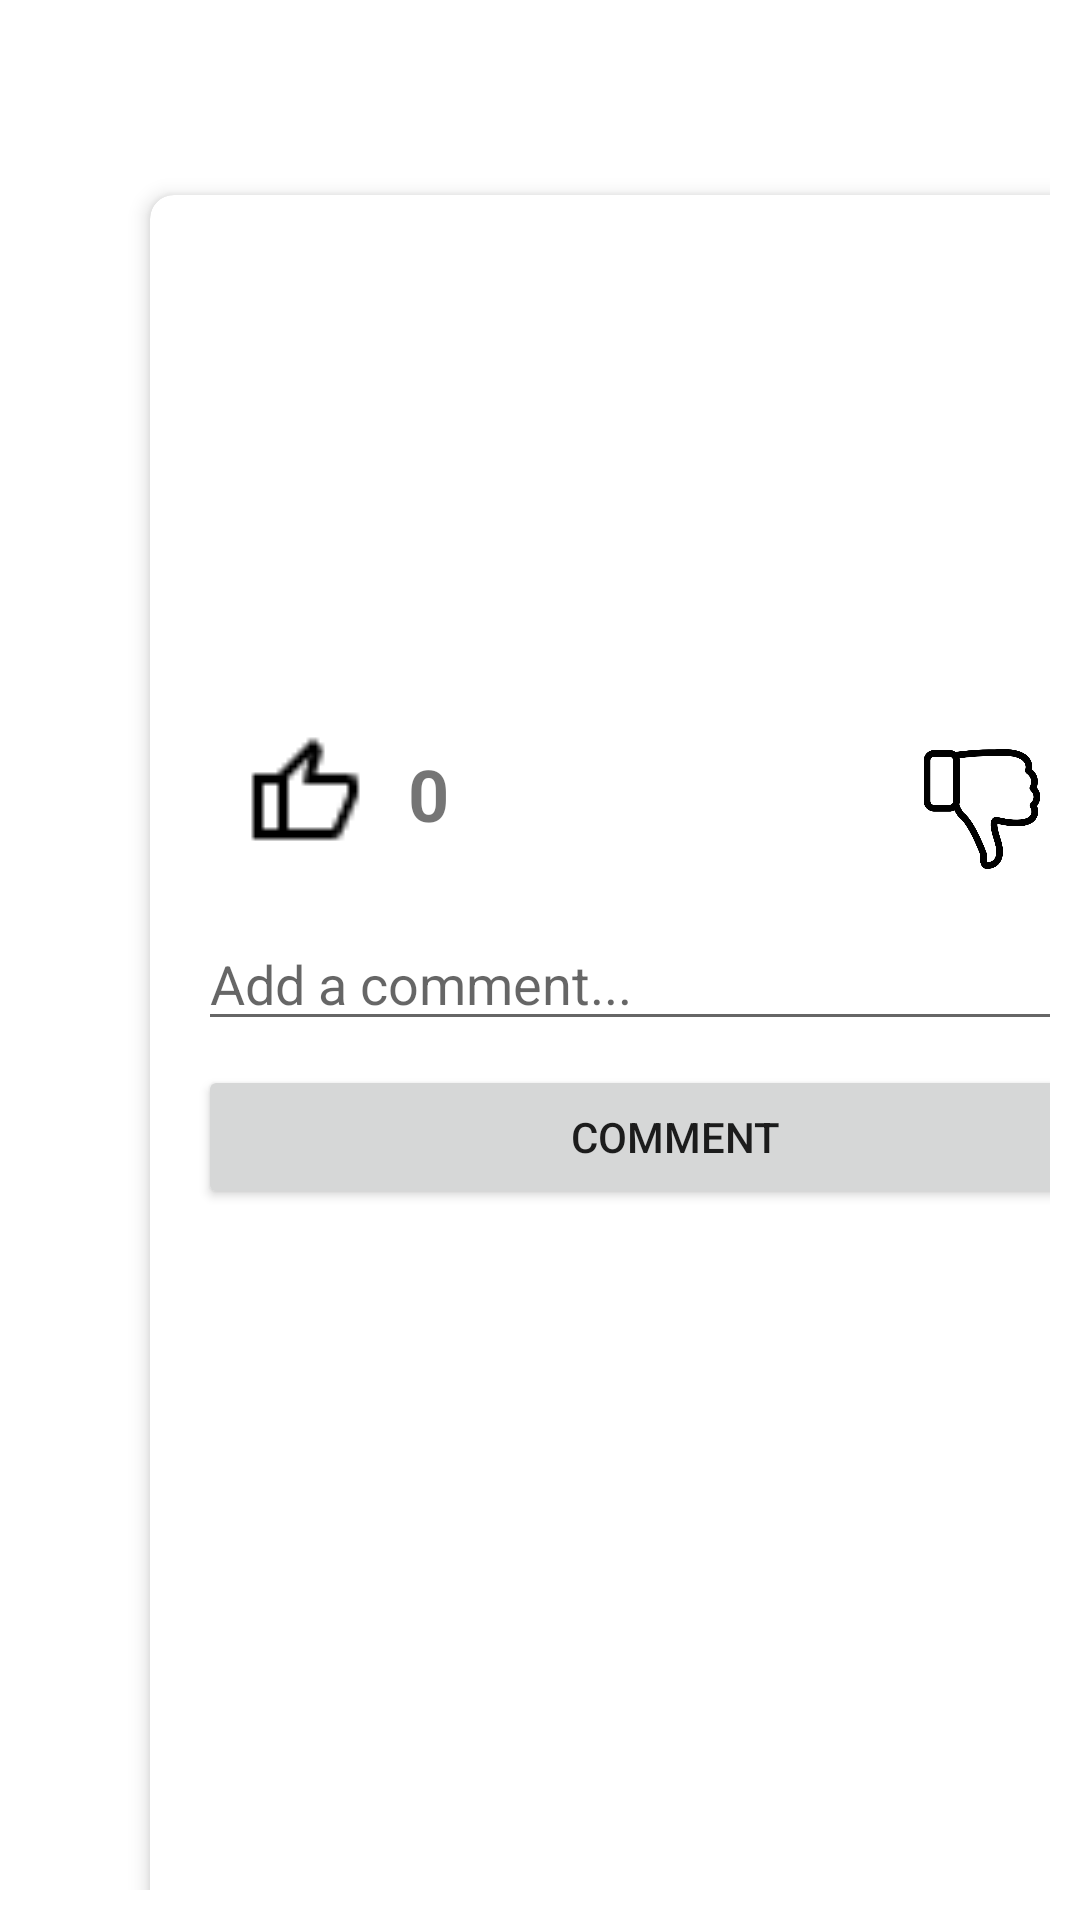

Icons on this 1080*1920 Android screen, each with the point to tap as (x,y):
like: (305,789)
